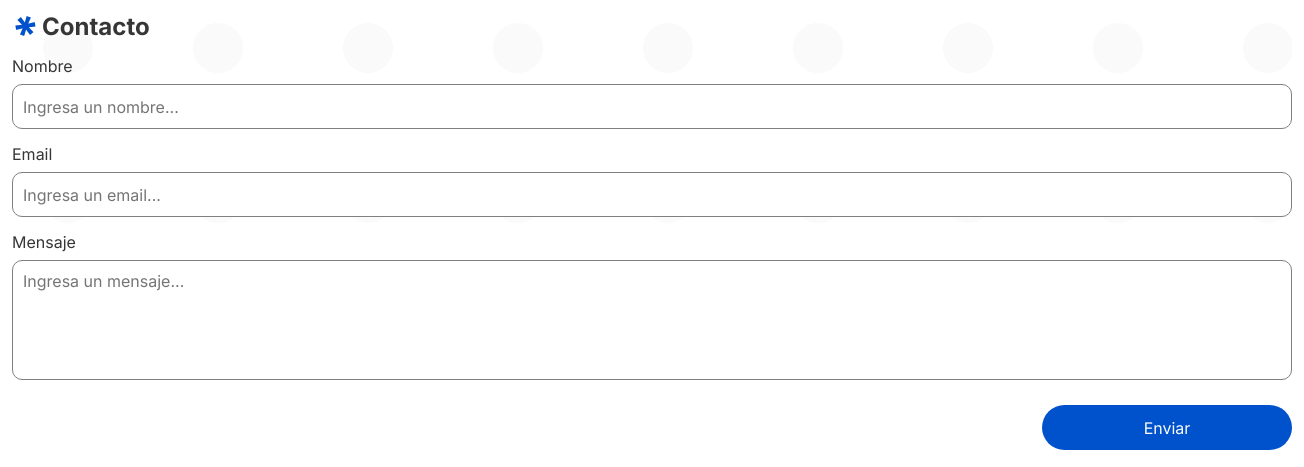
it: Contact form component › shows a name error
The image size is (1304, 467).
What coordinates should you click on to do the following:
click the button
I would click on:
 (1167, 428)
Its box is [1042,405,1292,450].
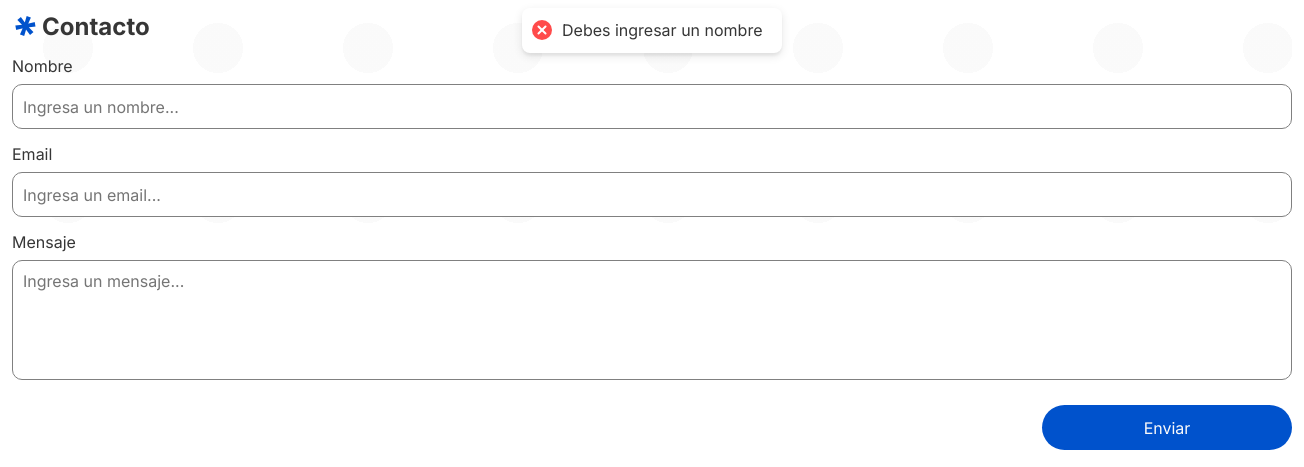
Check: the text "Debes ingresar un nombre" is shown, box [562,20,762,41]
